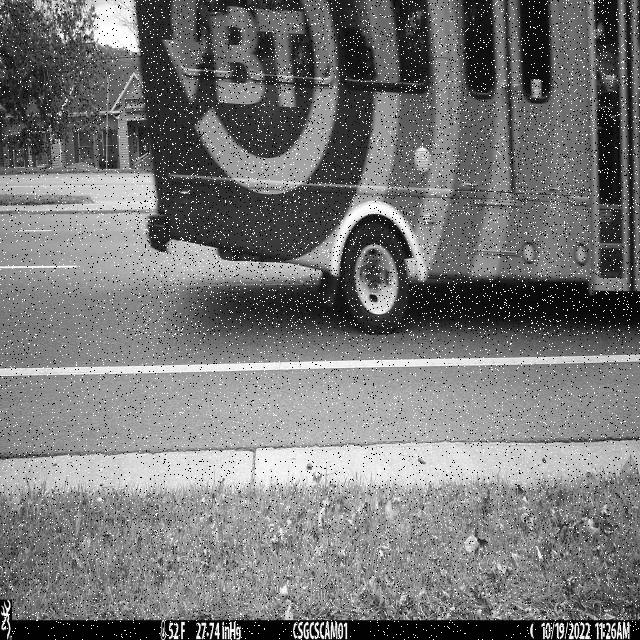Bus- Small: (133, 0, 640, 336)
